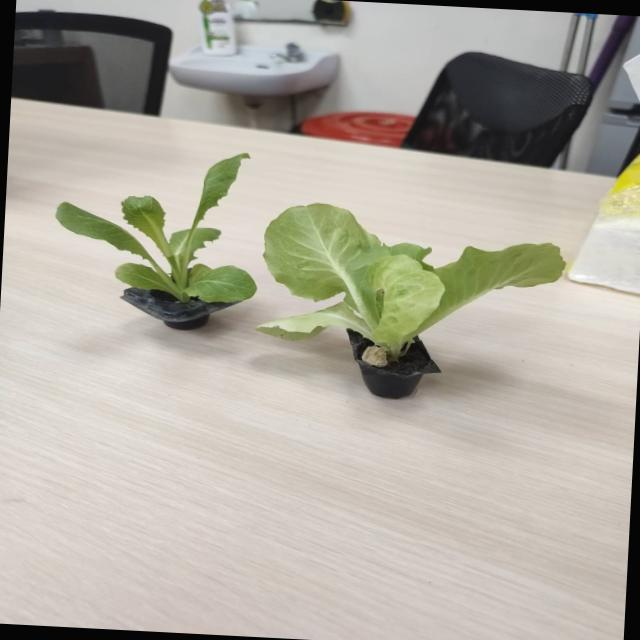Lettuce-Not-Ready-to-Harvest: (258, 203, 565, 361), (55, 153, 257, 304)
